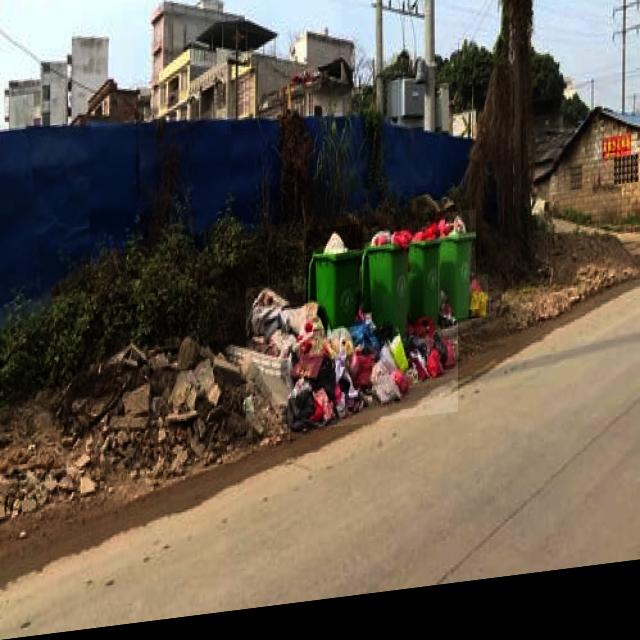garbage: (246, 273, 458, 445), (468, 287, 488, 330)
overflow: (306, 233, 363, 341), (362, 235, 409, 354), (438, 222, 476, 333), (407, 230, 441, 340)
